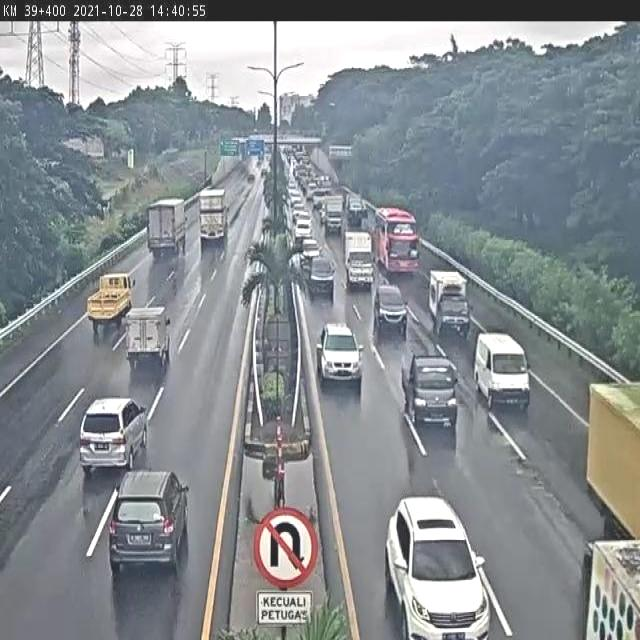Bus: (381, 205, 414, 279)
Car: (396, 518, 475, 640), (108, 471, 186, 571), (79, 395, 150, 475), (402, 352, 459, 429), (373, 283, 408, 339), (321, 325, 354, 373), (301, 240, 321, 272)
Truck: (585, 384, 640, 557), (129, 311, 168, 363), (343, 230, 374, 291), (150, 196, 181, 255), (93, 282, 129, 329), (198, 189, 228, 243), (321, 195, 344, 235)
Van: (479, 334, 529, 417), (428, 270, 470, 338), (305, 253, 336, 300), (346, 194, 368, 227), (293, 213, 313, 247), (311, 186, 331, 210)
